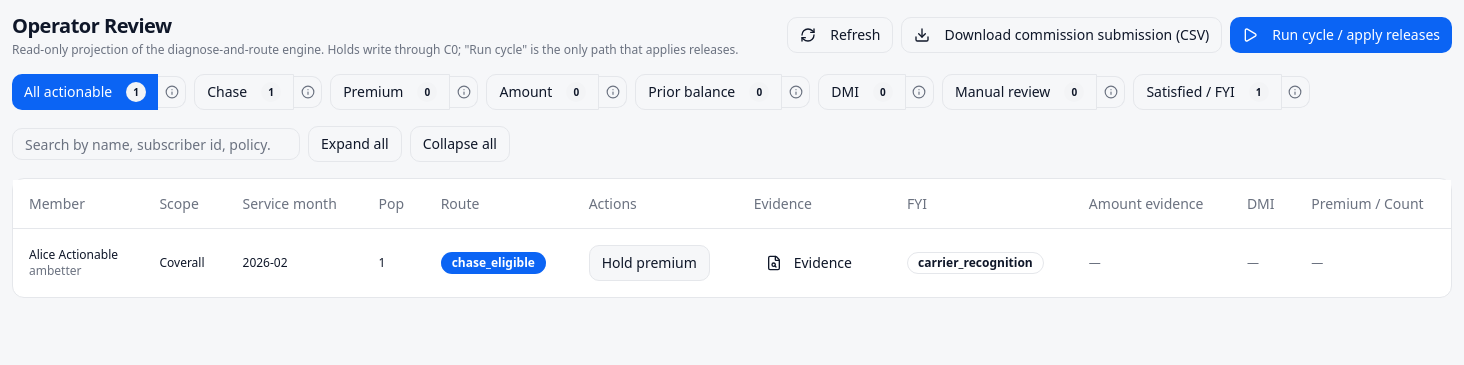
OperatorReviewPage — Stage 3 hold actions + run-cycle › run-cycle button calls runDiagnoseCycle and surfaces appliedReleases summary
Expected: the text "Alice Actionable" is shown, left=29, top=246, right=118, bottom=262
Click the button with test id "run-cycle": (1341, 35) left=1230, top=17, right=1452, bottom=53
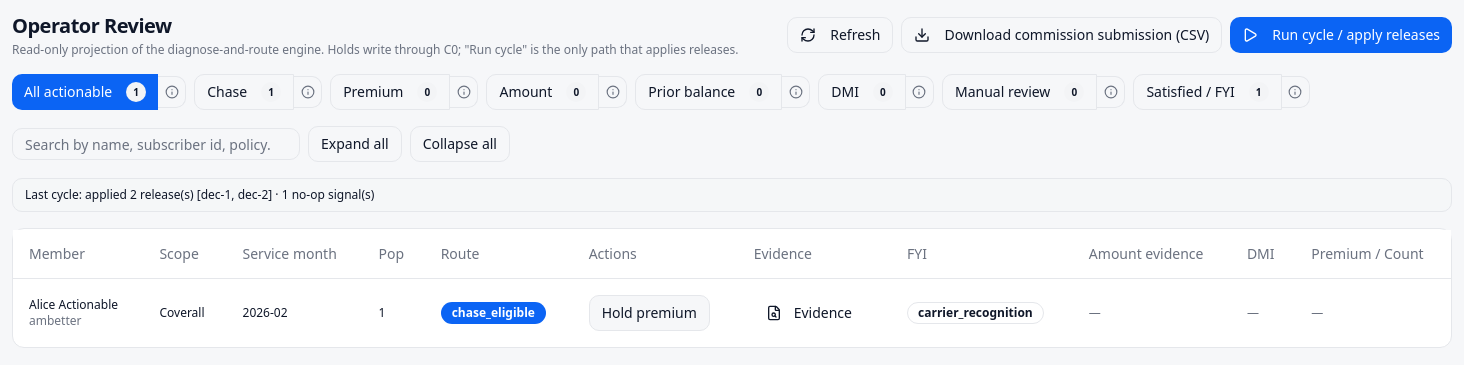
Now the element with test id "cycle-summary" shows "applied 2 release", box left=12, top=178, right=1452, bottom=212
Now the element with test id "cycle-summary" shows "dec-1", box left=201, top=186, right=268, bottom=203
Now the element with test id "cycle-summary" shows "dec-2", box left=201, top=186, right=268, bottom=203
